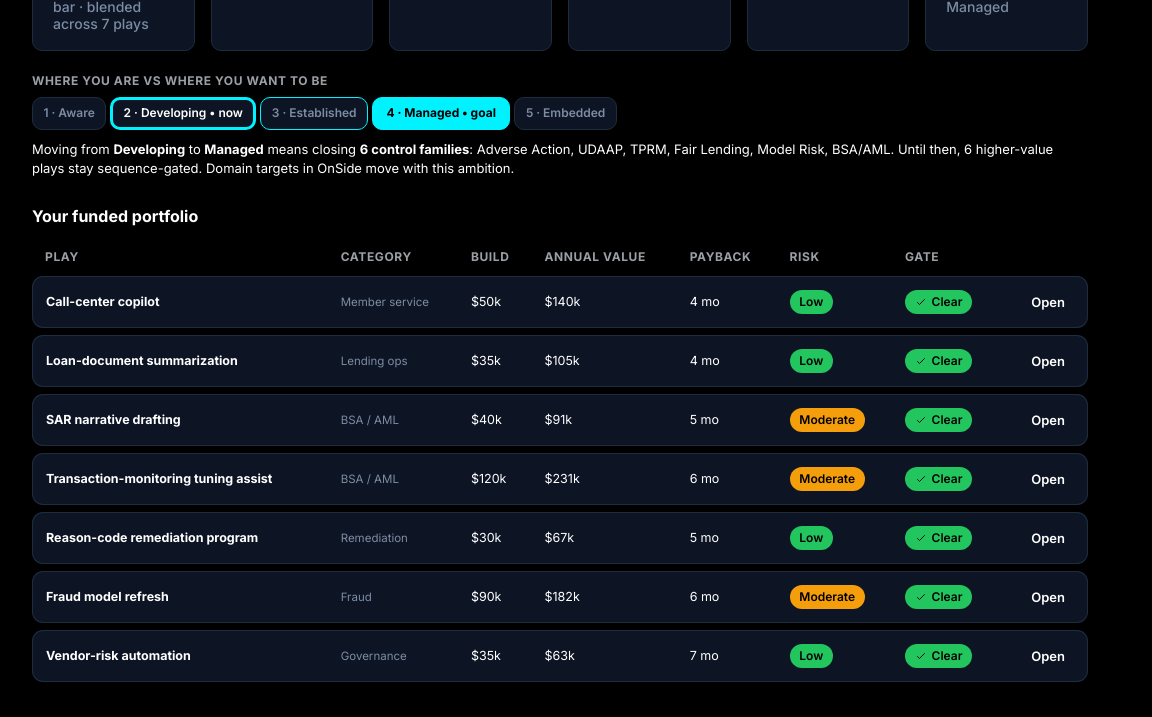
Test case: play drawer — full base openPlay content (base 1391-1432; fix-wave STU-13) › opens a funded play with summary, economics, verdict, scope of work, tech deps, governance detail, financial block, and connections
(page scrolled)
Click the 2nd button "Open": (1048, 361) left=1022, top=348, right=1074, bottom=374
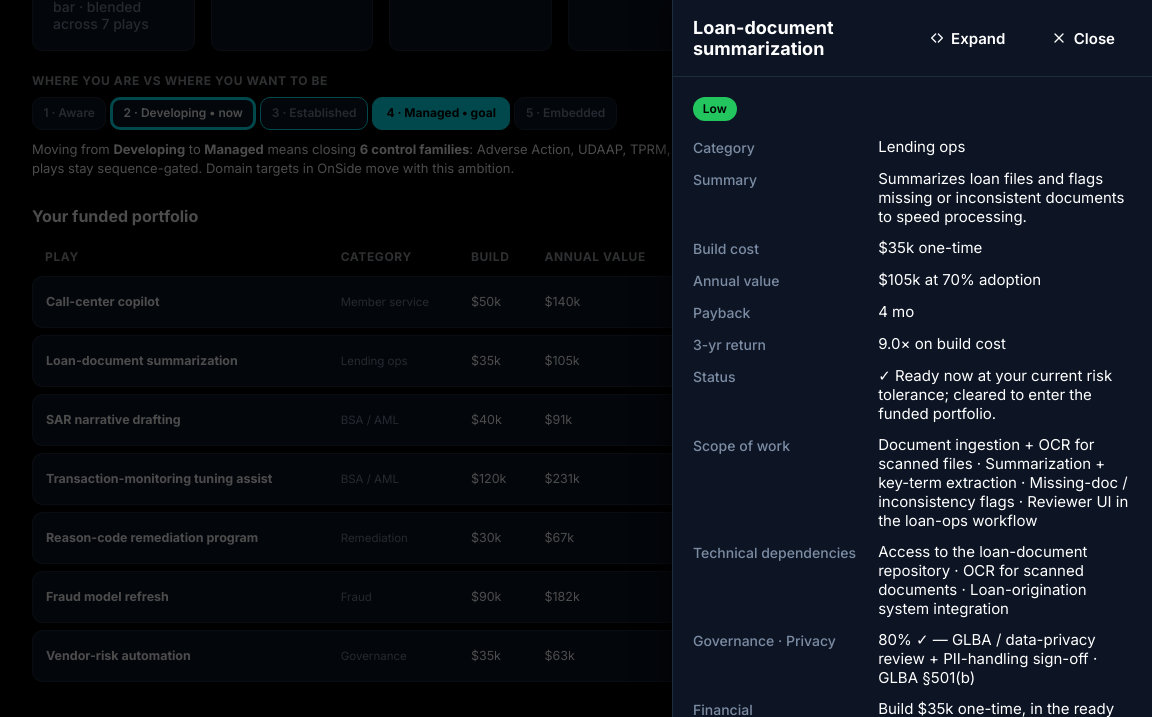
Result: the dialog shows "Loan-document summarization" at left=693, top=17, right=834, bottom=59
Result: the dialog shows "Summarizes loan files and flags missing or inconsistent documents to speed processing." at left=878, top=169, right=1124, bottom=226
Result: the dialog shows "$35k one-time" at left=878, top=238, right=982, bottom=257
